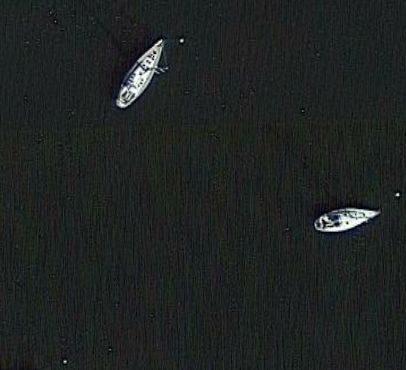boat: (112, 36, 168, 112), (310, 205, 384, 234)
